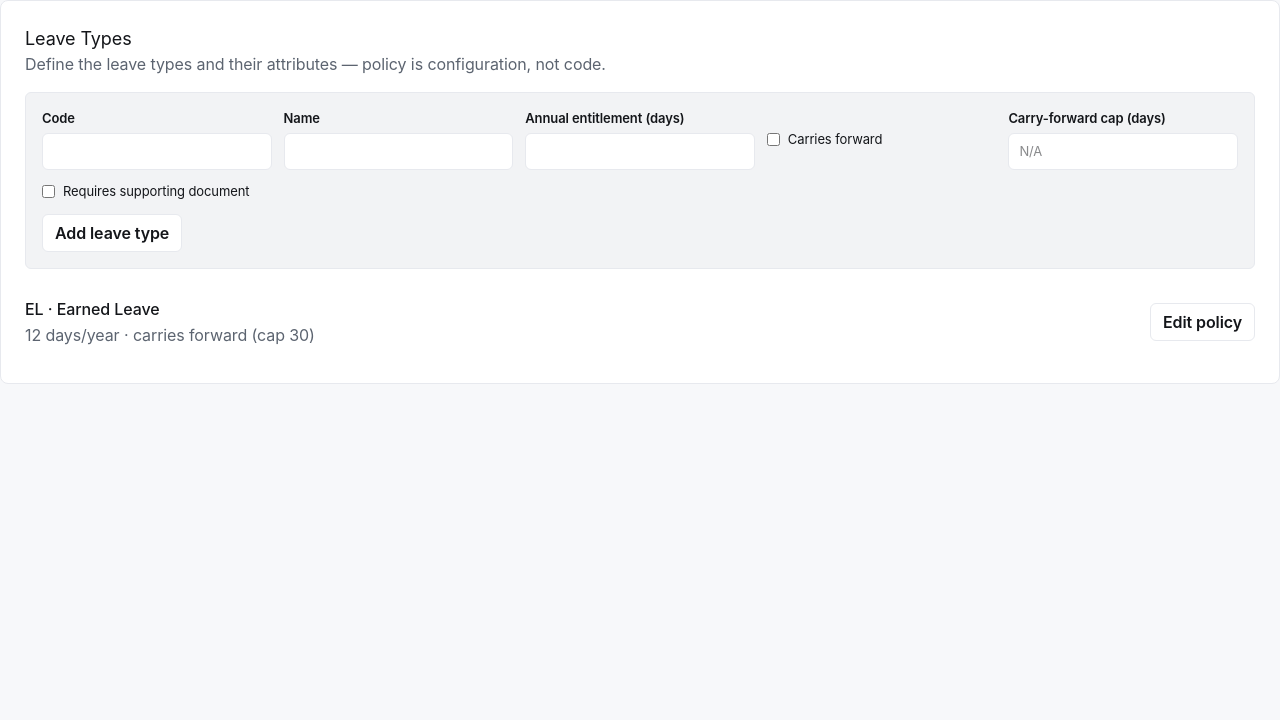
Scenario: LeaveTypesPage — edit form Save state and reason hint › on open with no change: Save is disabled and a hint asks for a change
The width and height of the screenshot is (1280, 720).
Click the button "Edit policy".
click(1202, 322)  # box [1150,302,1255,340]
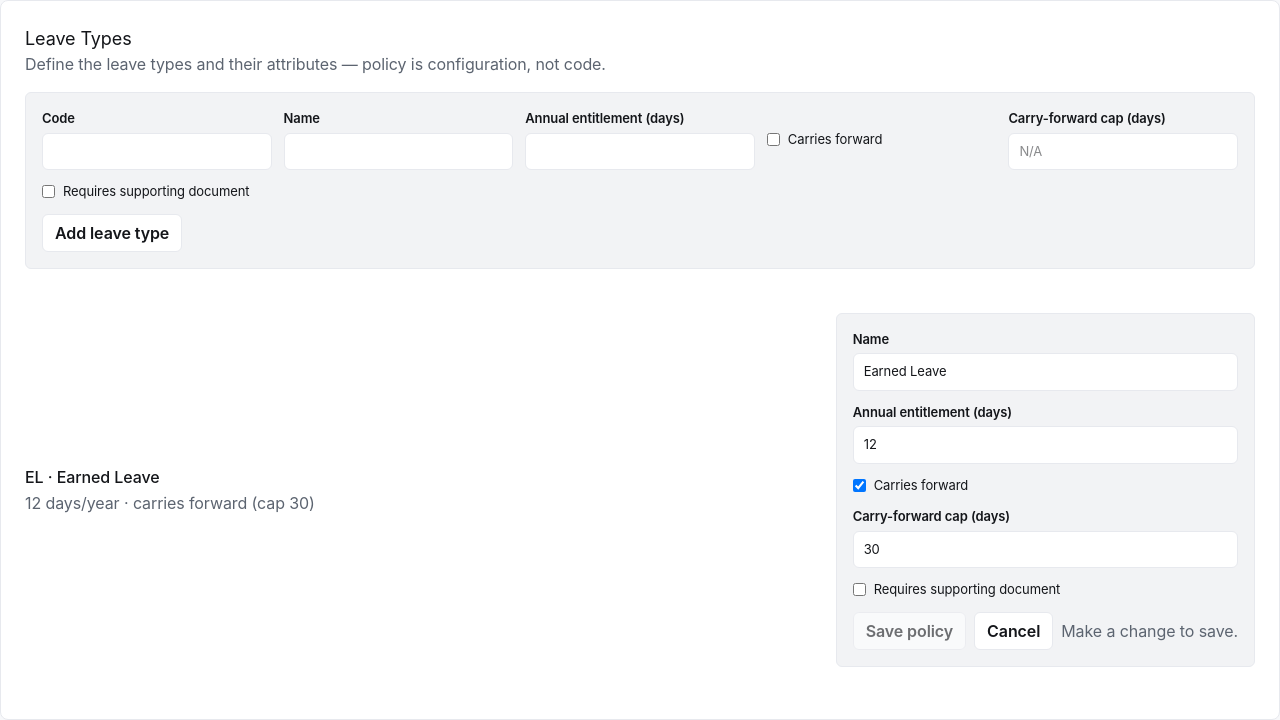
Expected: the button "Save policy" is disabled, [853,612,966,650]
Expected: the text "Make a change to save." is shown, [1061,618,1238,642]
